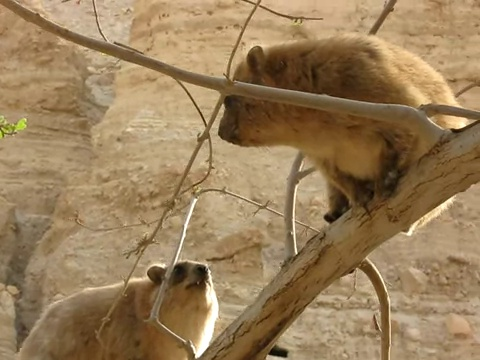Rock Hyrex: (212, 29, 464, 221), (11, 260, 221, 360)
